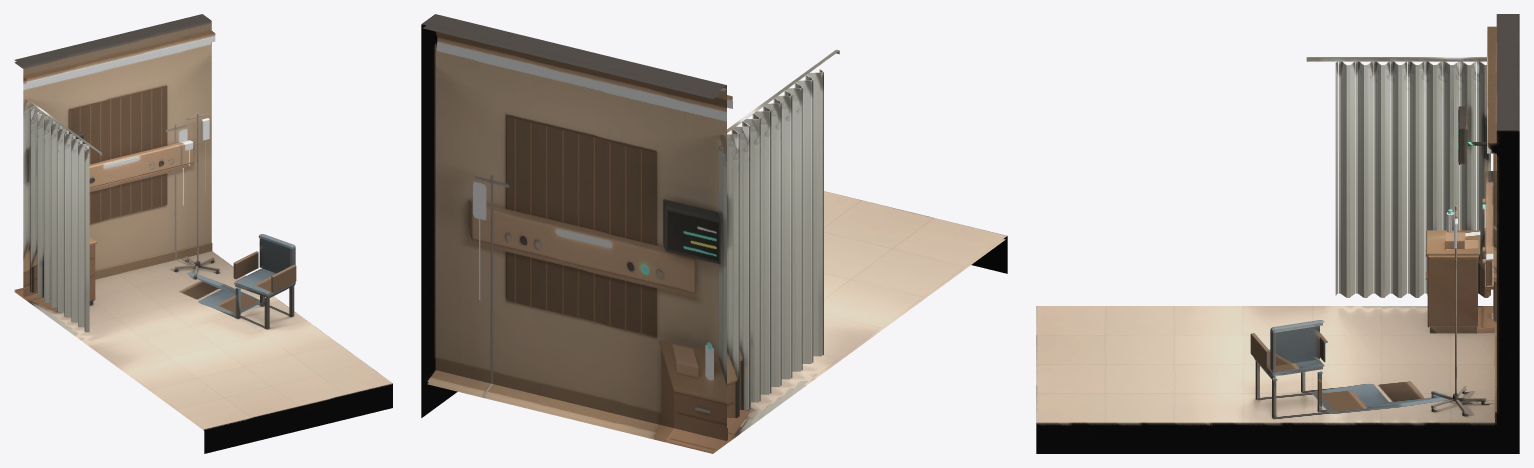
File: bay-backwall.glb
3 renders of one model, left to right at view 1: azimuth 30°, elevation 25°; view 2: azimuth 150°, elevation 25°; view 3: azimuth 270°, elevation 25°, orthographic. The views are drawn at different scales.
Parts seen in each view (by area): view 1: bayBackwall; view 2: bayBackwall; view 3: bayBackwall.
Boxes of the visible parts, left/top/right/bottom form: bayBackwall: left=14, top=14, right=392, bottom=453; bayBackwall: left=421, top=14, right=1007, bottom=453; bayBackwall: left=1036, top=14, right=1519, bottom=453.
Size of the model in its own units: 2.4 by 3.1 by 4.2.
1 material, 1 textured.
